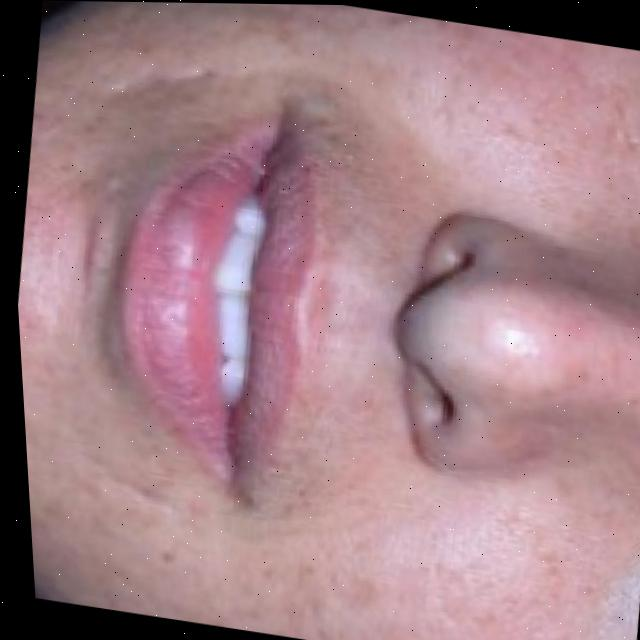Acne: (422, 19, 640, 167)
